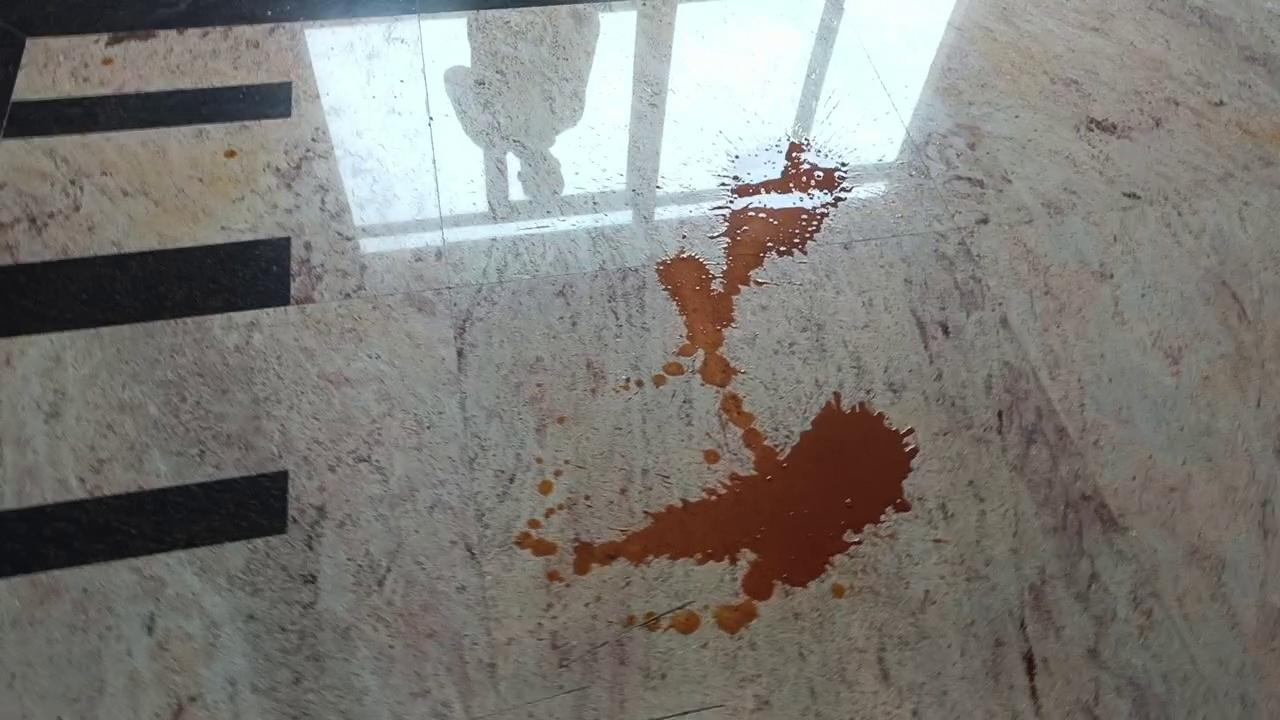dirty_floor: (521, 131, 916, 640)
